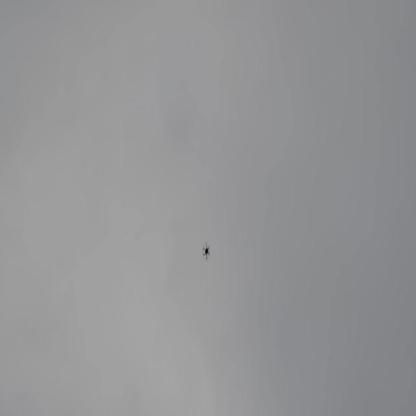drone: (199, 239, 213, 261)
